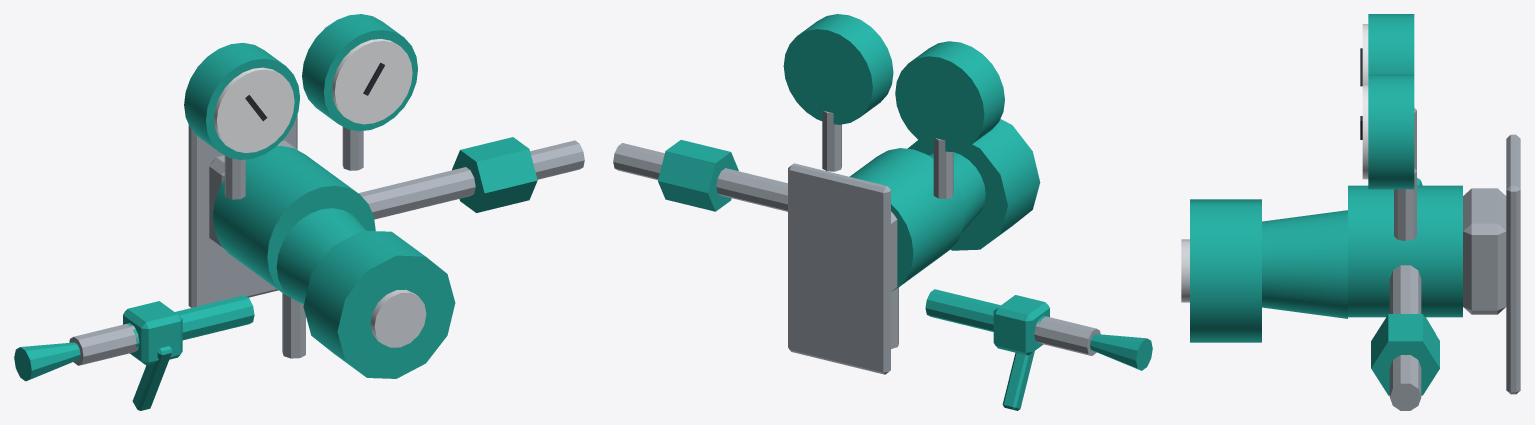
File: cylinder-regulator.glb
3 views of the same model, side by side, from view 1: azimuth 30°, elevation 25°; view 2: azimuth 150°, elevation 25°; view 3: azimuth 270°, elevation 25° (orthographic). The views are drawn at different scales.
Parts seen in each view (by area): view 1: cylinder-regulator; view 2: cylinder-regulator; view 3: cylinder-regulator.
Part boxes in pixels (x1,y1,x2,y2): cylinder-regulator: [14, 14, 584, 410]; cylinder-regulator: [613, 14, 1152, 410]; cylinder-regulator: [1181, 14, 1520, 410].
Size of the model in its own units: 0.47 by 0.2826 by 0.236.
